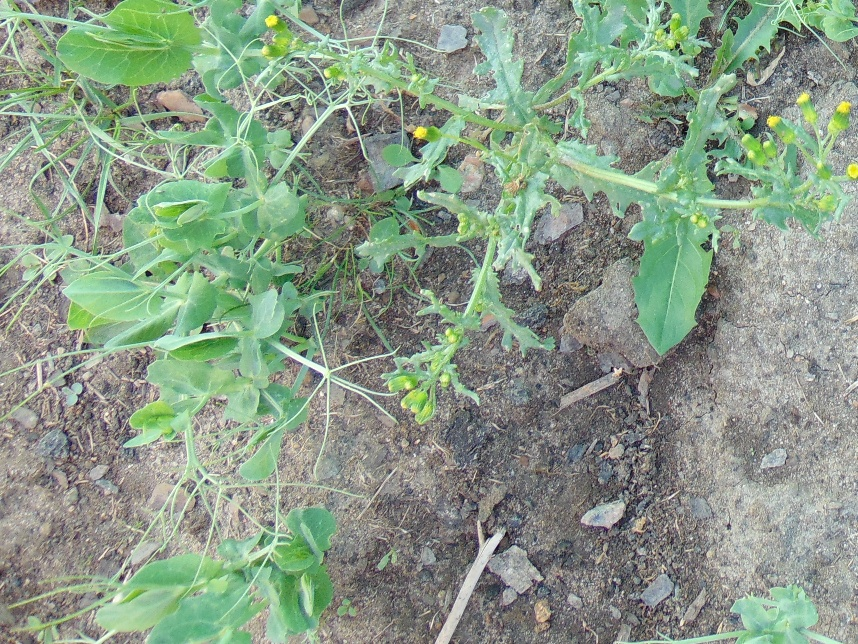crop: (1, 1, 357, 456), (57, 419, 336, 644), (654, 585, 858, 644), (770, 1, 858, 42)
weed: (367, 1, 858, 428)
